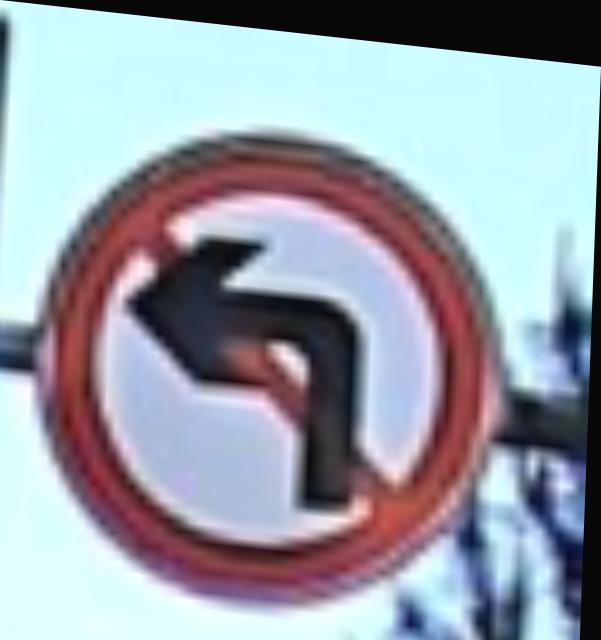not_turn_left: (14, 103, 517, 607)
